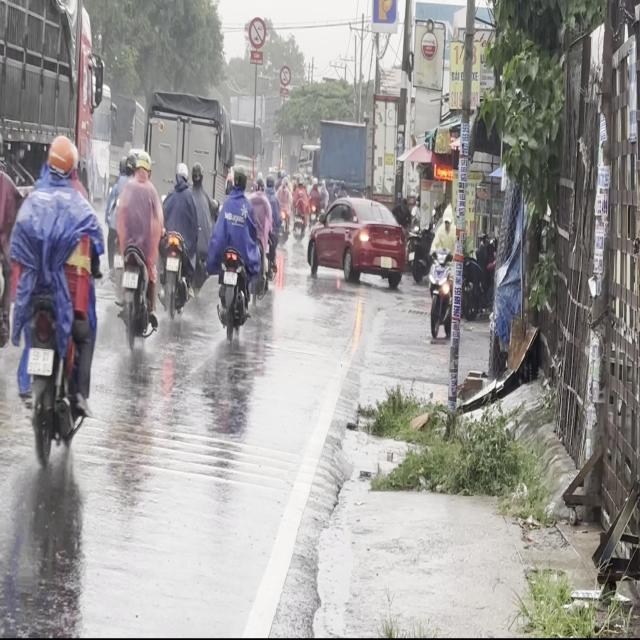helmet: (44, 134, 77, 182), (136, 150, 153, 180), (232, 162, 246, 190), (174, 160, 188, 186), (124, 148, 137, 176)
licenseplate: (6, 130, 103, 480), (110, 146, 162, 344), (210, 161, 258, 340), (159, 159, 197, 319)
nohelmet: (28, 347, 52, 375), (122, 270, 137, 288), (224, 270, 236, 284), (166, 258, 179, 270)
